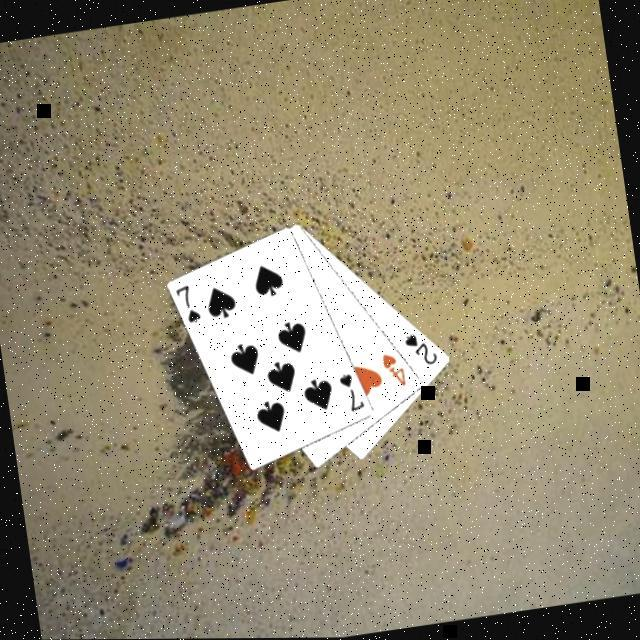2S: (402, 326, 443, 369)
4H: (379, 346, 412, 391)
7S: (173, 278, 207, 326), (336, 368, 371, 414)
